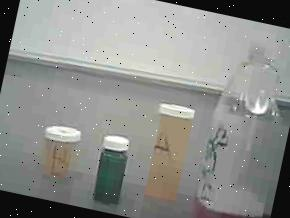Bottle A: (129, 90, 202, 210)
Bottle B: (30, 116, 93, 189)
Bottle C: (85, 126, 138, 212)
hazard: (182, 15, 290, 218)
